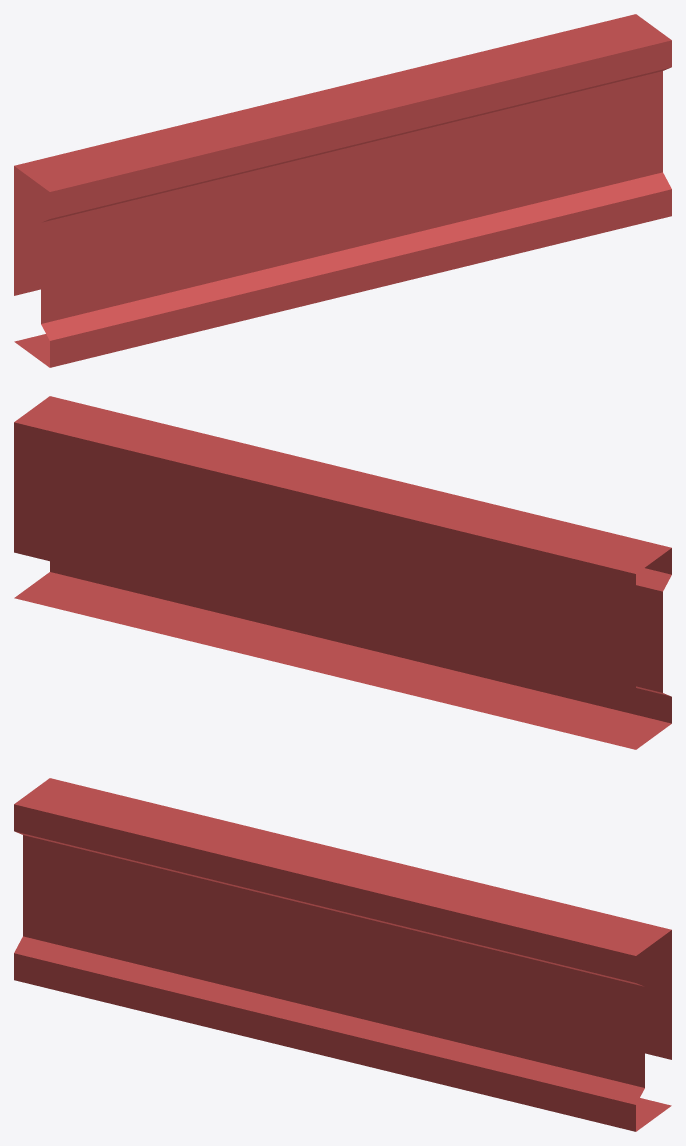
File: Cornice_Small_Metal_Center.gltf
3 views of the same model, one above another, from view 1: azimuth 30°, elevation 25°; view 2: azimuth 150°, elevation 25°; view 3: azimuth 330°, elevation 25° (orthographic).
Parts seen in each view (by area): view 1: Cornice_Small_Metal_Center; view 2: Cornice_Small_Metal_Center; view 3: Cornice_Small_Metal_Center.
Part boxes in pixels (x1,y1,x2,y2): Cornice_Small_Metal_Center: (14,14,671,367); Cornice_Small_Metal_Center: (14,396,671,749); Cornice_Small_Metal_Center: (14,778,671,1131).
Size of what is drawn, in the model's own units: 2 by 0.5403 by 0.2.
